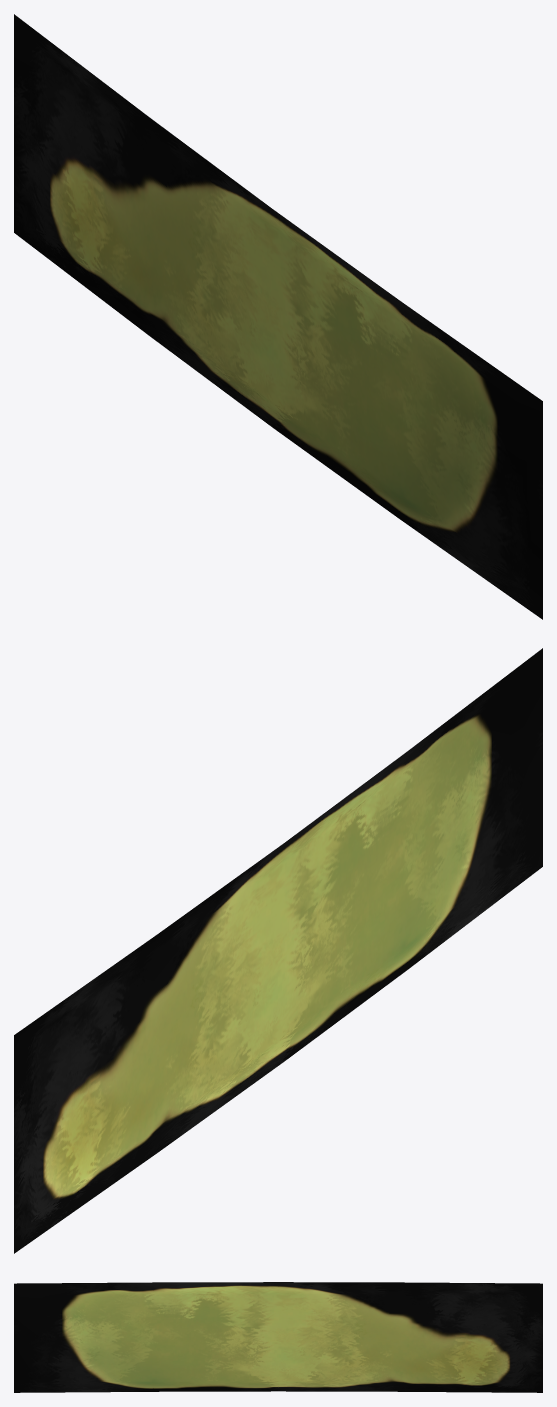
Rendered from Cloud02_Art.fbx.
3 renders of one model, top to bottom at view 1: azimuth 30°, elevation 25°; view 2: azimuth 150°, elevation 25°; view 3: azimuth 270°, elevation 25°, orthographic. The views are drawn at different scales.
Parts seen in each view (by area): view 1: Cloud02_Art; view 2: Cloud02_Art; view 3: Cloud02_Art.
Part boxes in pixels (x1=…): Cloud02_Art: x1=14, y1=14, x2=542, y2=619; Cloud02_Art: x1=14, y1=648, x2=542, y2=1253; Cloud02_Art: x1=14, y1=1282, x2=542, y2=1392.
Size of the model in its own units: 0.0565 by 1.27 by 5.55.
